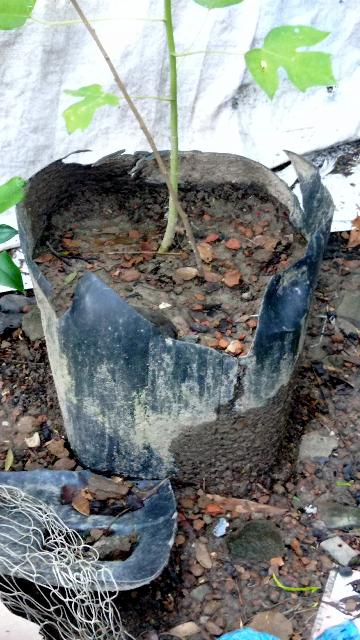hardplastic: (19, 285, 316, 490), (0, 468, 162, 598)
